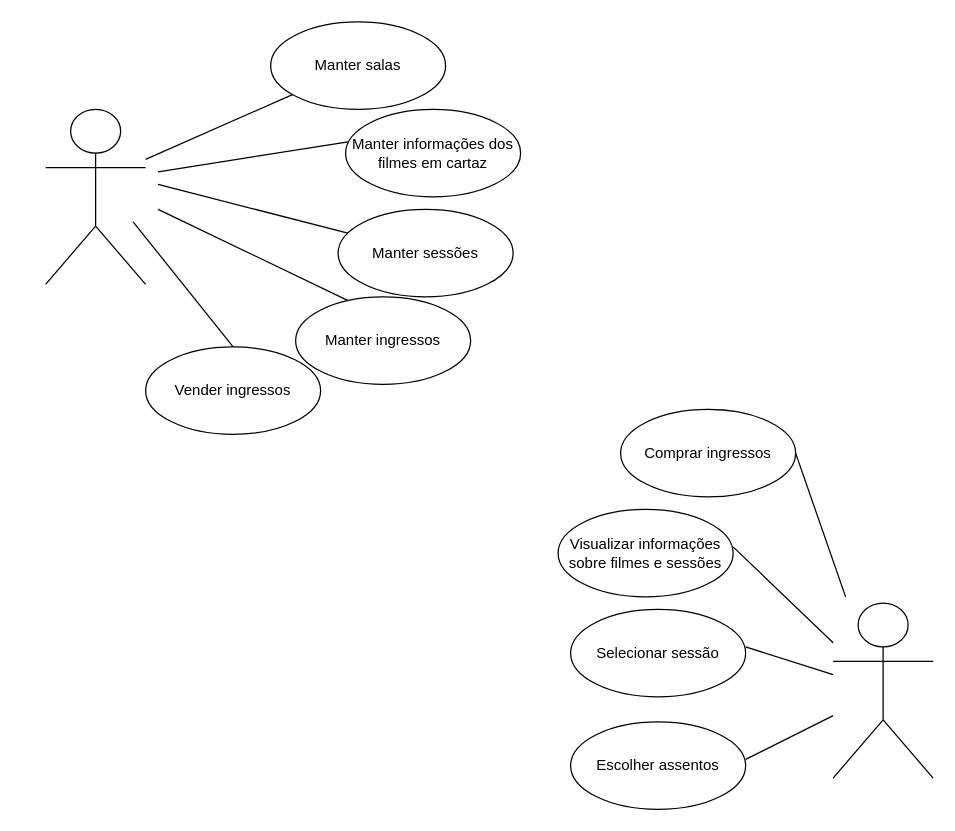
Image size: 955x831. Some labels were removed from this diagram. The box of each missing label's shape, as (x1, y1, x2, y2) in pixels:
cliente: (832, 602, 933, 778)
funcionário/ atendente: (44, 108, 146, 284)
